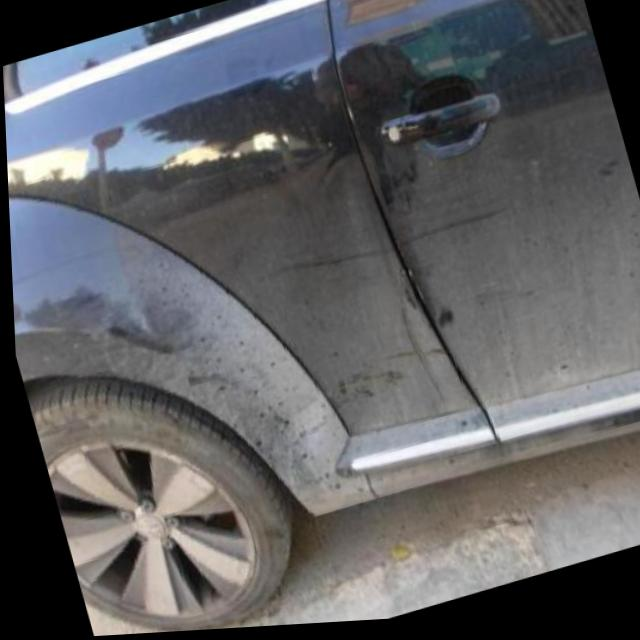Dent: (253, 142, 414, 343), (9, 251, 165, 390), (432, 308, 456, 327)
